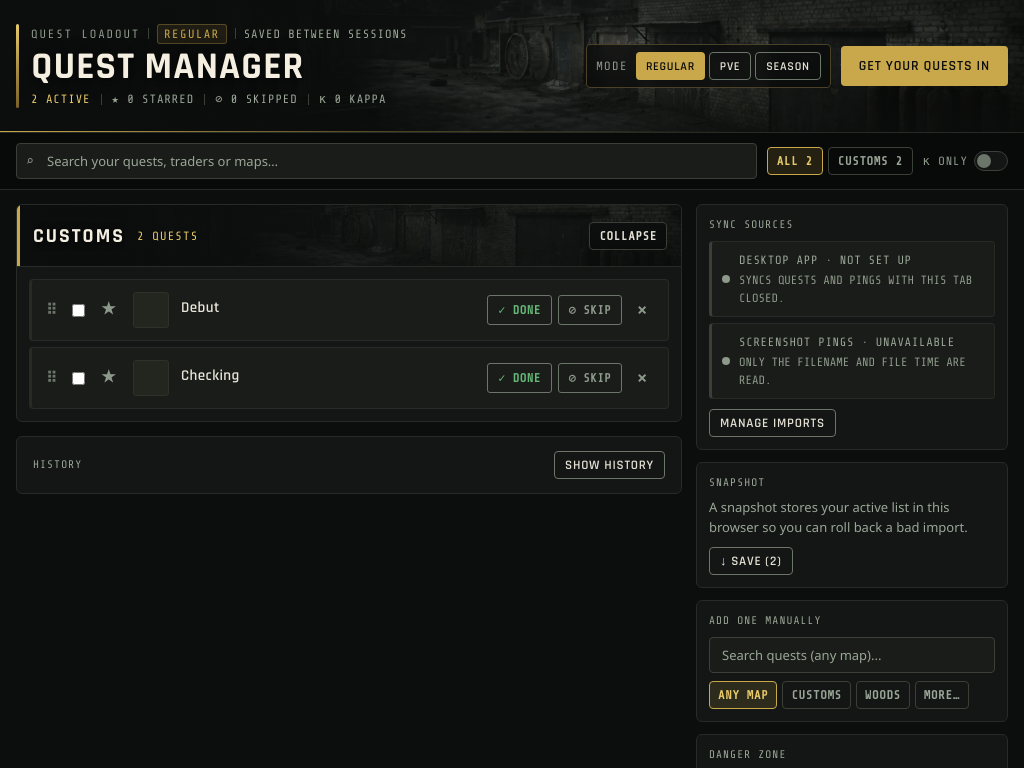
MyQuests saved list › filters the list by the toolbar search
The image size is (1024, 768).
Type "check" into the field labelled "Search your quests" at (386, 161), box [16,143,757,179]
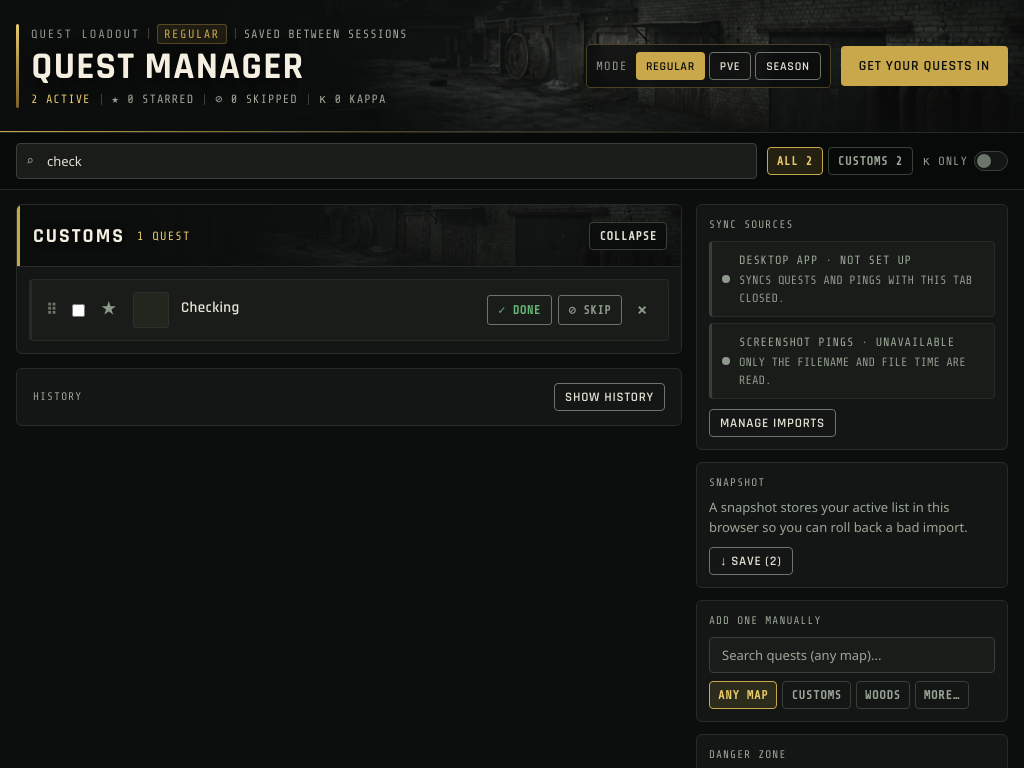
Expected: the text "Checking" is shown, [181,297,240,319]
Expected: the text "Debut" is gone
